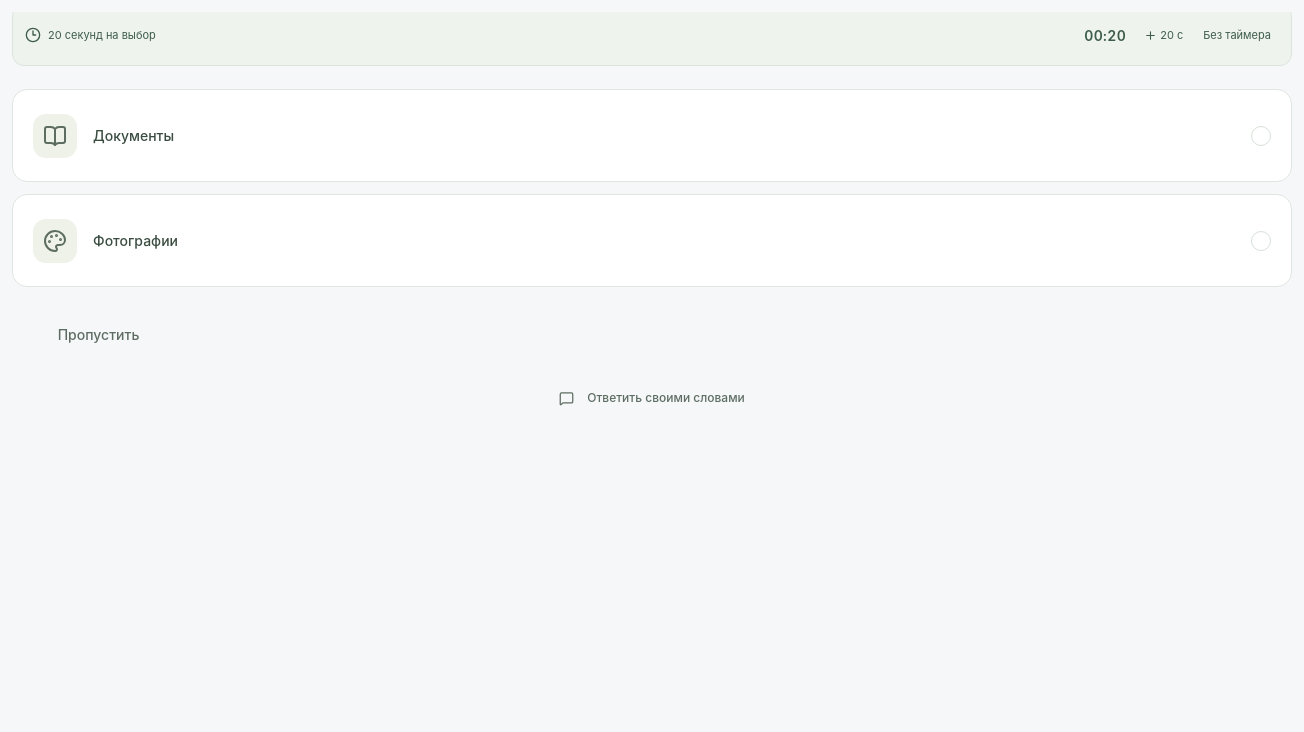
Test case: answer timebox › retains a written draft when switching back to choices
This screenshot has width=1304, height=732.
Step 1. Click the button "Ответить своими словами" → (652, 398), box [538,374,766,422]
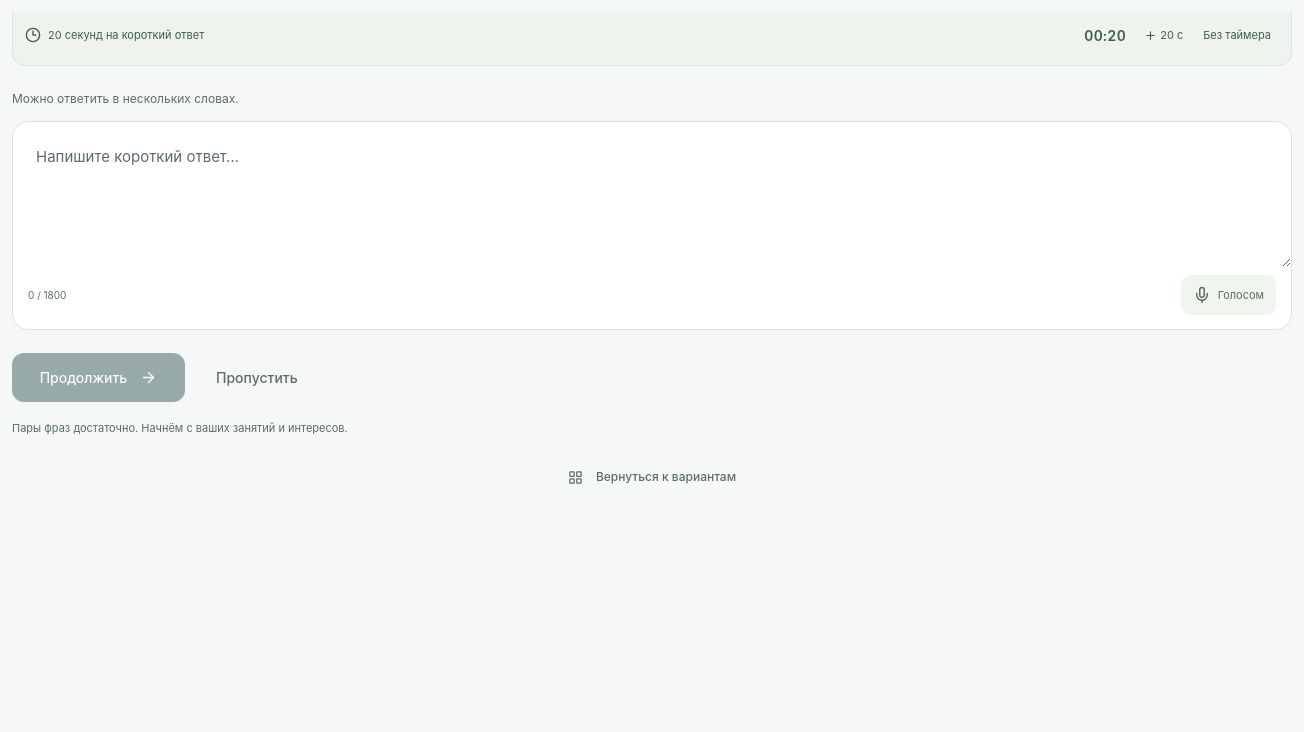
Step 2. Type "Нужна помощь с исследованиями" into the text box → (652, 195), box [13,122,1291,267]
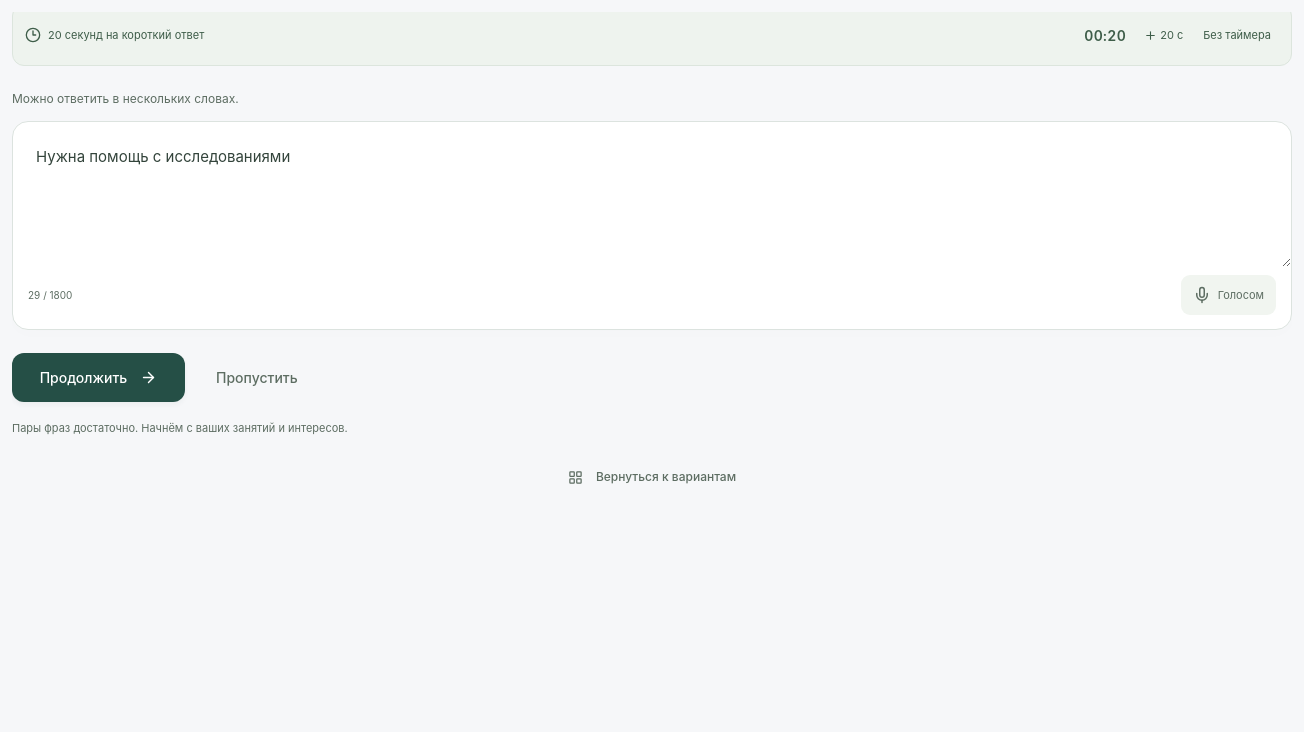
Step 3. Click the button "Вернуться к вариантам" → (652, 477), box [547,453,757,501]
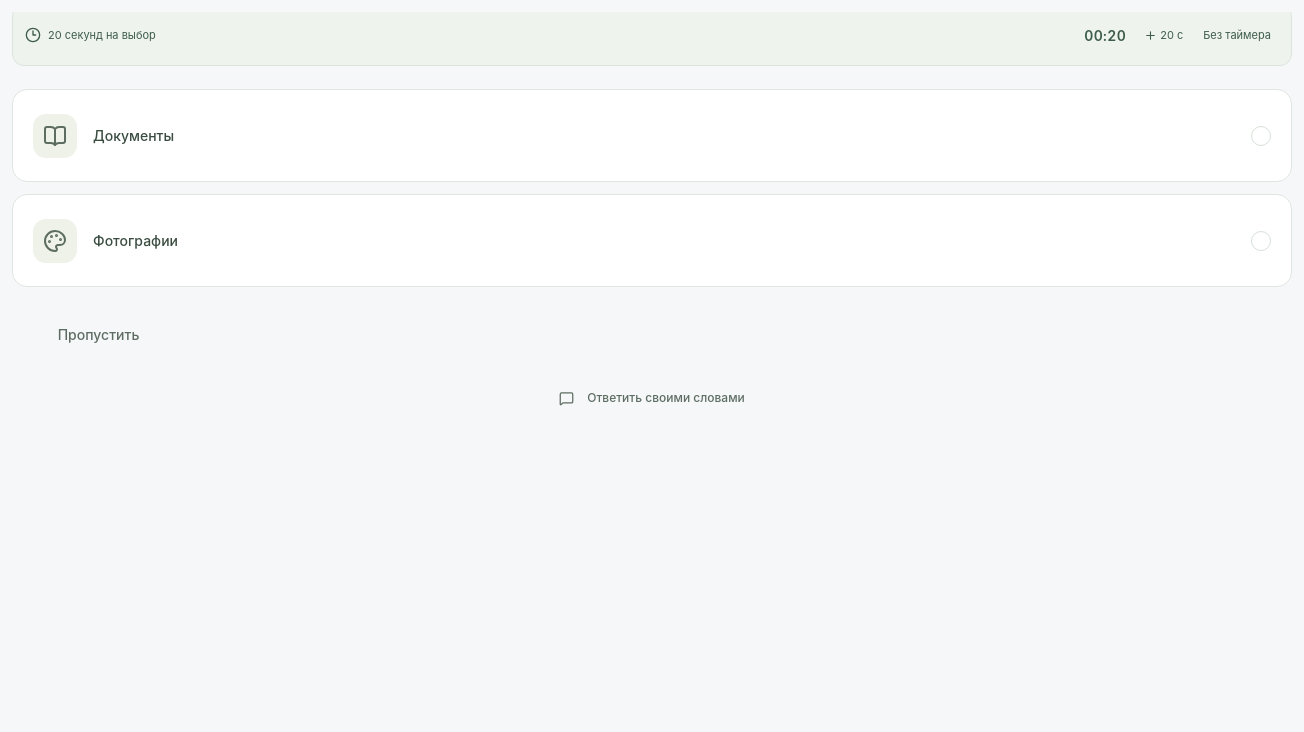
Step 4. Click the button "Ответить своими словами" → (652, 398), box [538,374,766,422]
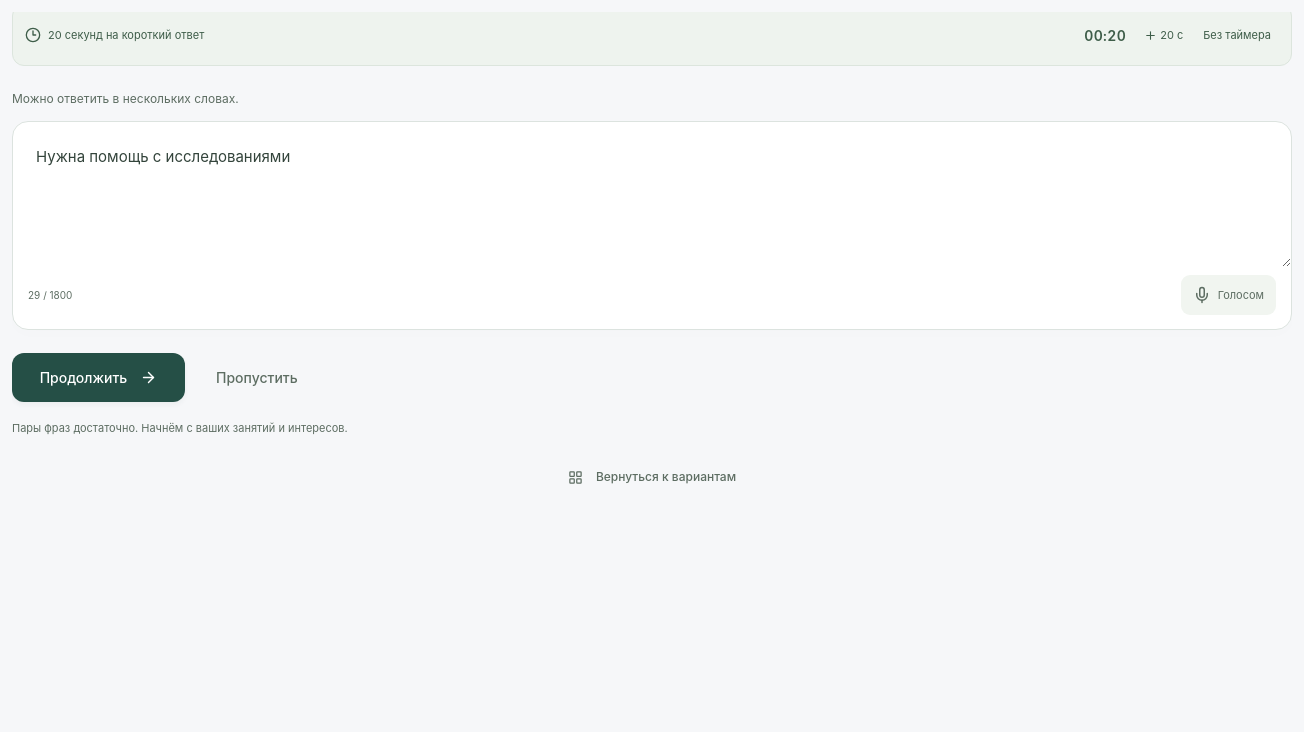
Expected: the text box holds "Нужна помощь с исследованиями", [13,122,1291,267]
